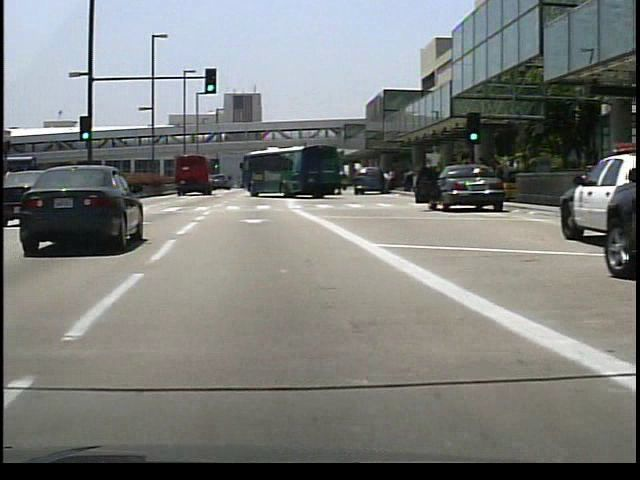person: (379, 168, 390, 194)
